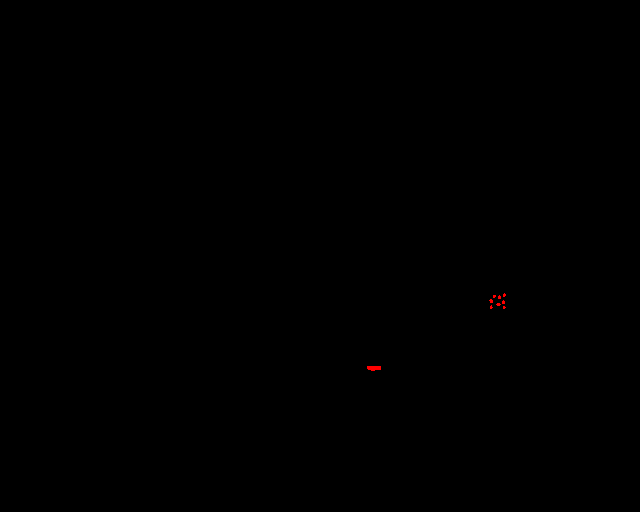Target: (367, 366, 381, 371), (489, 299, 493, 303), (496, 303, 501, 306), (503, 293, 506, 297), (498, 295, 501, 299), (502, 300, 505, 304), (490, 305, 493, 309), (493, 295, 496, 298), (503, 306, 506, 309)
